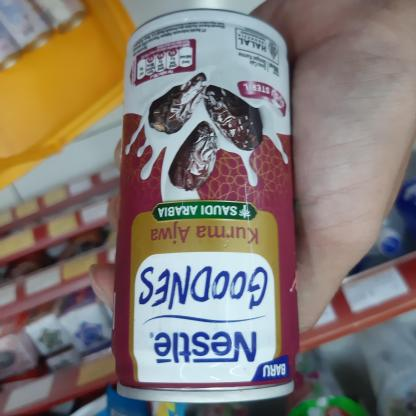alumunium_can: (102, 0, 312, 403)
